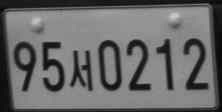0: (98, 39, 122, 91)
1: (153, 37, 180, 91)
2: (182, 37, 210, 90), (124, 38, 151, 90)
5: (40, 40, 65, 92)
9: (12, 40, 36, 91)
서: (68, 49, 93, 90)
